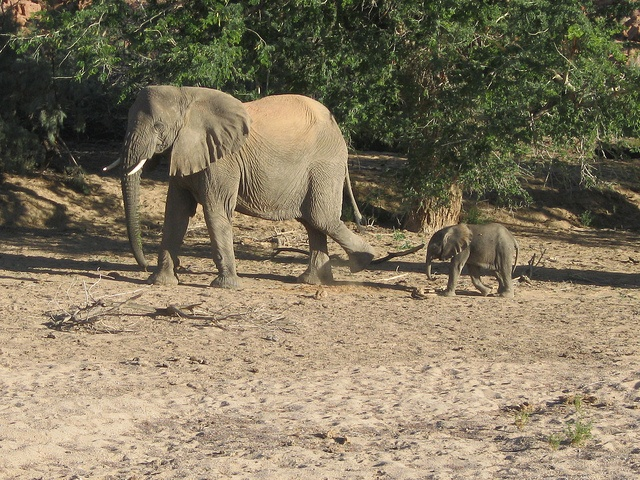elephant: (102, 84, 377, 289), (425, 223, 518, 297)
